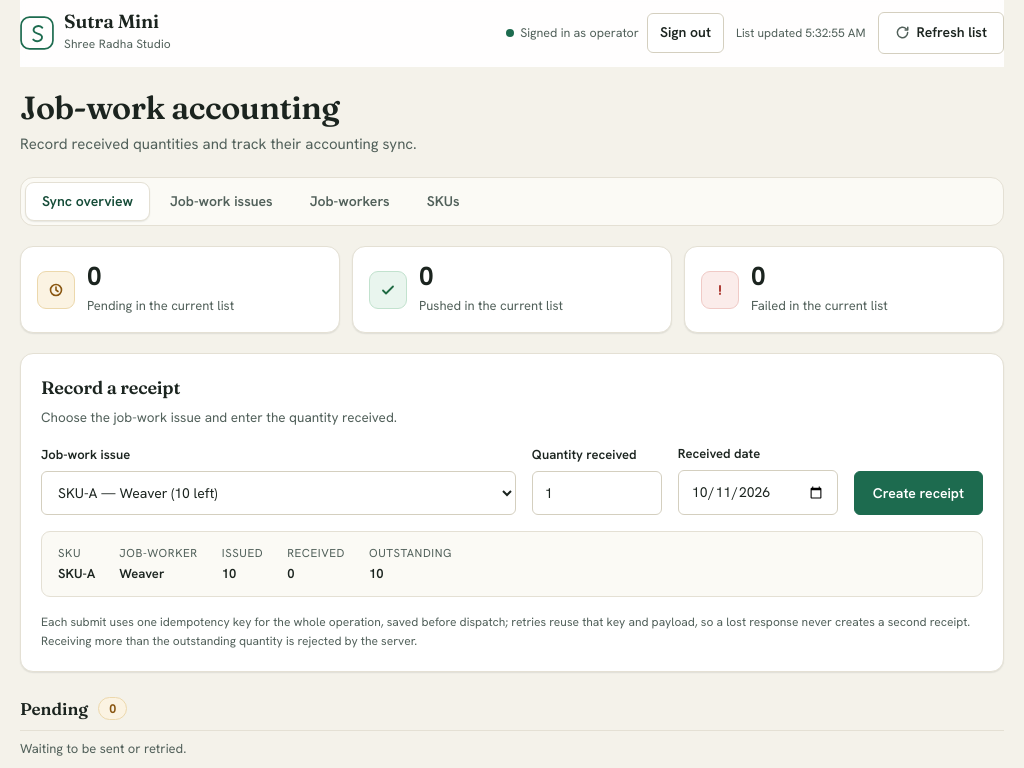
Test: SyncPage session-lifecycle race protection › A: a receipt response resolving after sign-out does not surface or clear pending tracking
Click the button "Create receipt": (918, 493) [854,471,983,515]
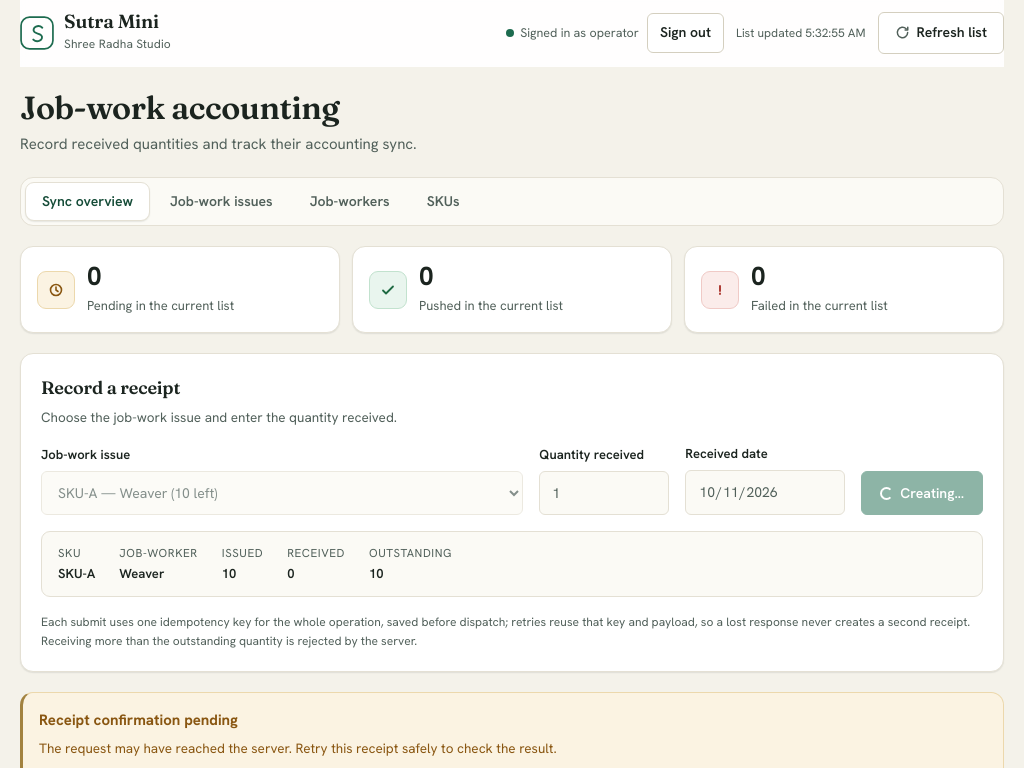
Click the button "Sign out": (685, 33) [647,13,724,53]
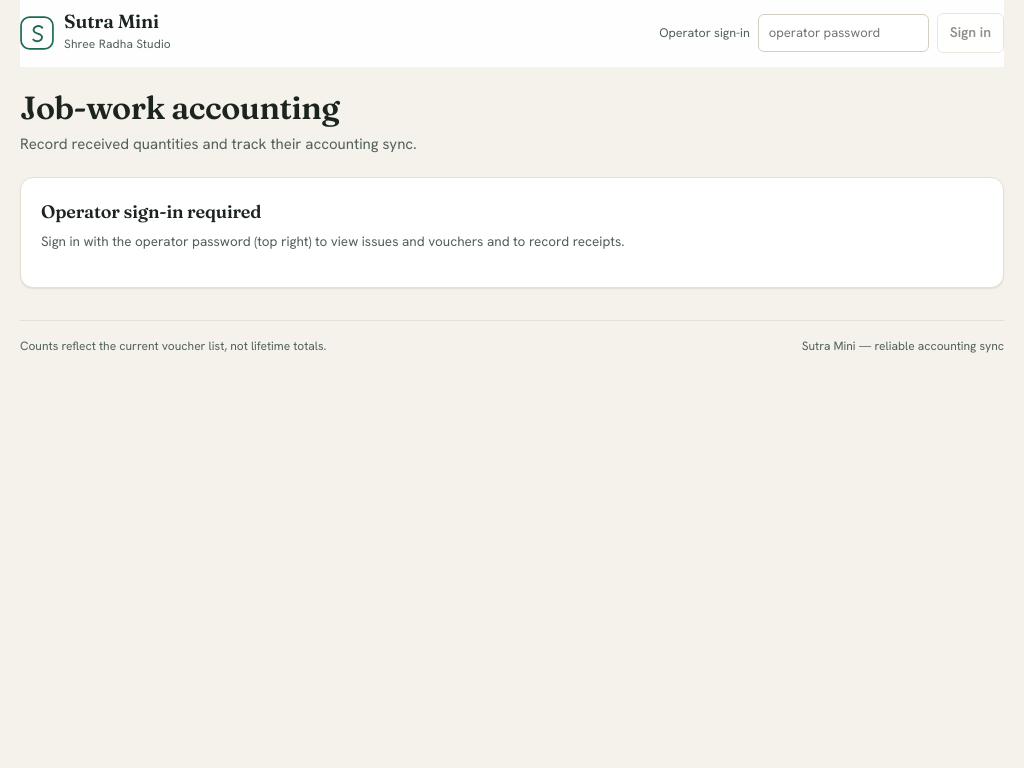
Result: the heading "Operator sign-in required" is shown at [41,200,261,223]
